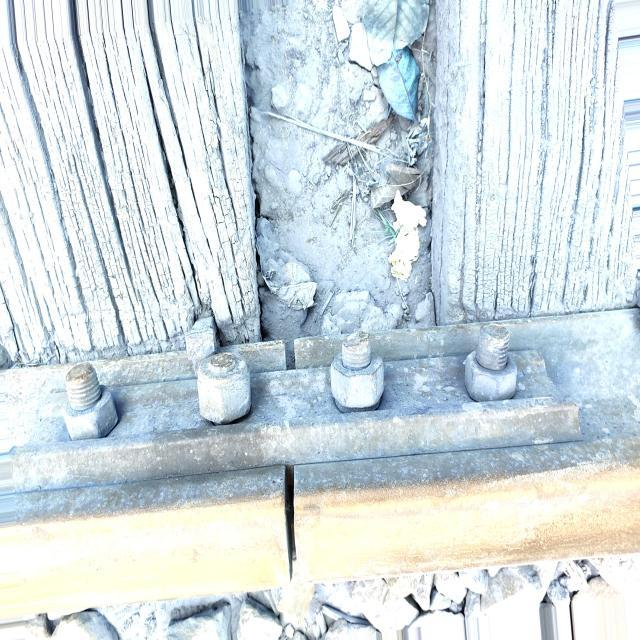Good Joint: (0, 324, 580, 497)
